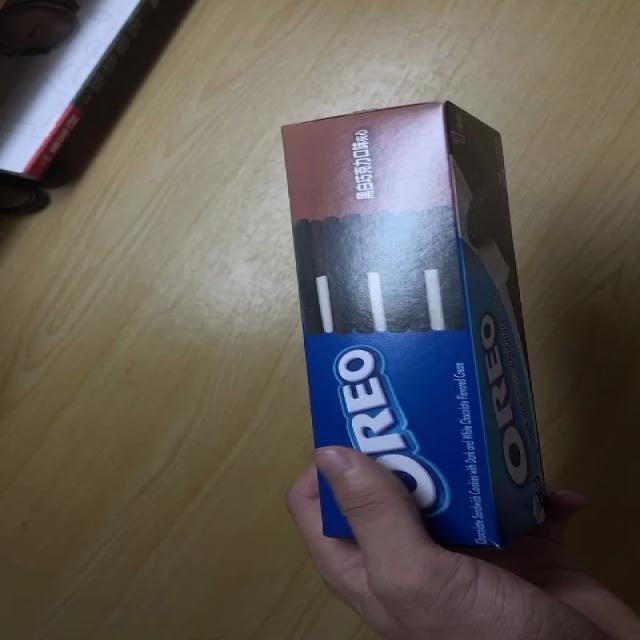Oreo: (277, 99, 548, 549)
